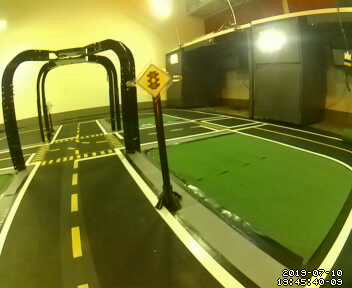Traffic light sign: (137, 60, 173, 99)
